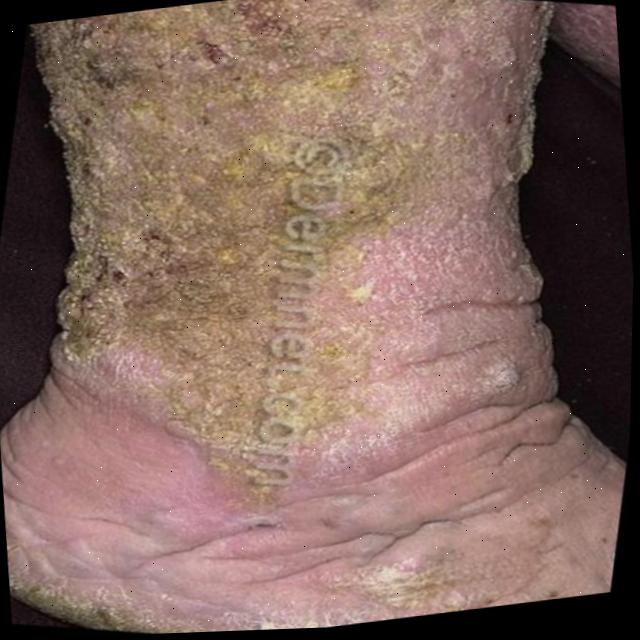Eczema: (16, 0, 499, 517)
